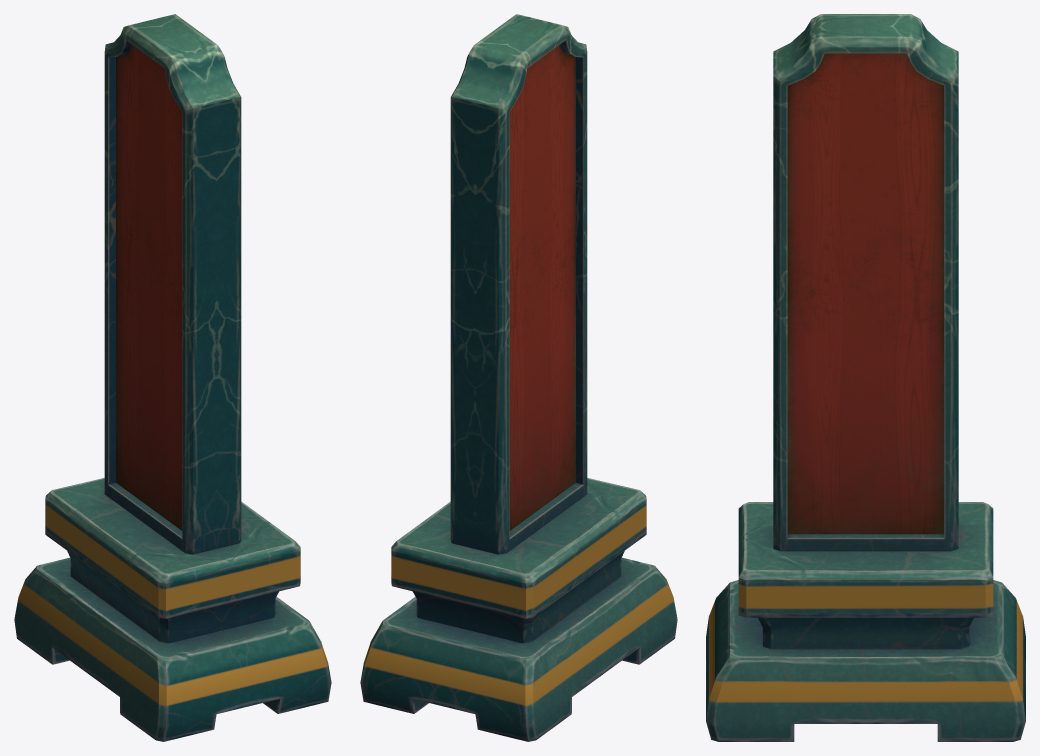
The model's file is SM_StoneTablet2.glb.
The picture shows the model from 3 angles, left to right: view 1: azimuth 30°, elevation 25°; view 2: azimuth 150°, elevation 25°; view 3: azimuth 270°, elevation 25°; orthographic projection. The views are drawn at different scales.
Parts seen in each view (by area): view 1: SM_StoneTablet2_LOD0; view 2: SM_StoneTablet2_LOD0; view 3: SM_StoneTablet2_LOD0.
Boxes of the visible parts, left/top/right/bottom form: SM_StoneTablet2_LOD0: left=14, top=14, right=331, bottom=741; SM_StoneTablet2_LOD0: left=360, top=14, right=677, bottom=741; SM_StoneTablet2_LOD0: left=706, top=14, right=1025, bottom=741.
Size of the model in its own units: 0.5274 by 1.84 by 0.7944.
1 material, 1 textured.
